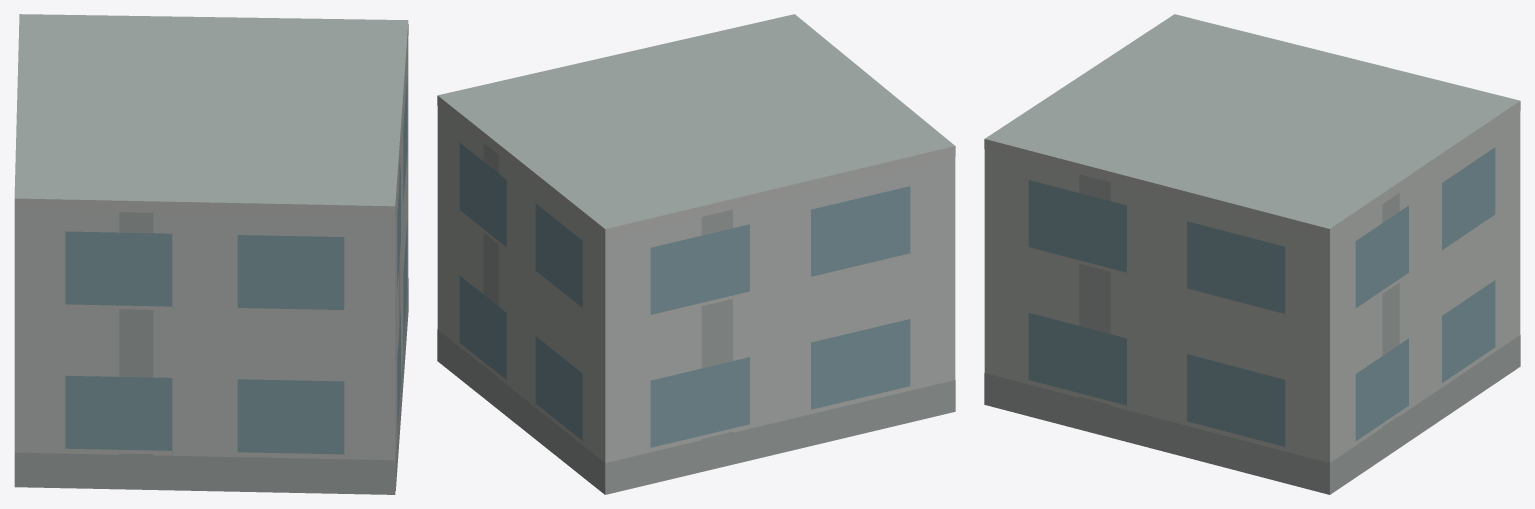
File: residential-1c3745f0-ee34-401c-9902-1c0f67d3f3e3.glb
3 renders of one model, left to right at view 1: azimuth 30°, elevation 25°; view 2: azimuth 150°, elevation 25°; view 3: azimuth 270°, elevation 25°, orthographic. The views are drawn at different scales.
Visible parts, largest first — view 1: residential-1c3745f0-ee34-401c-9902-1c0f67d3f3e3.tmp; view 2: residential-1c3745f0-ee34-401c-9902-1c0f67d3f3e3.tmp; view 3: residential-1c3745f0-ee34-401c-9902-1c0f67d3f3e3.tmp.
Part boxes in pixels (x1,y1,x2,y2): residential-1c3745f0-ee34-401c-9902-1c0f67d3f3e3.tmp: (14,14,408,494); residential-1c3745f0-ee34-401c-9902-1c0f67d3f3e3.tmp: (437,14,955,494); residential-1c3745f0-ee34-401c-9902-1c0f67d3f3e3.tmp: (984,14,1520,494).
Bounding box in the file's own units: 10.59 × 6.1 × 11.15.
